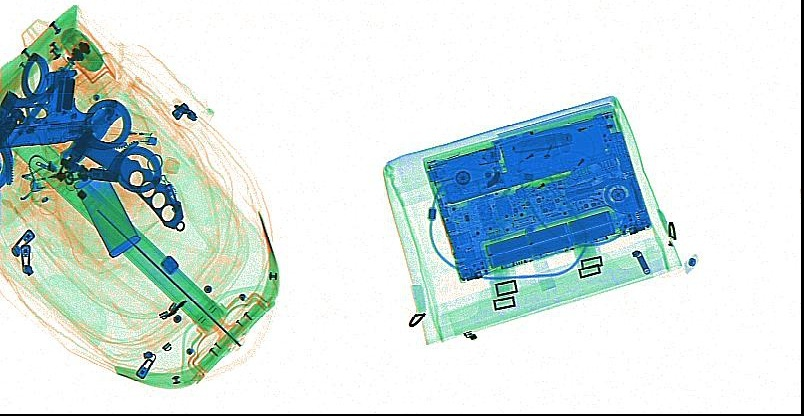handcuffs: (50, 98, 161, 194), (1, 52, 77, 191)
knife: (73, 139, 185, 232), (512, 130, 572, 153)
lighter: (104, 127, 157, 145)
zippooil: (73, 167, 142, 259)
